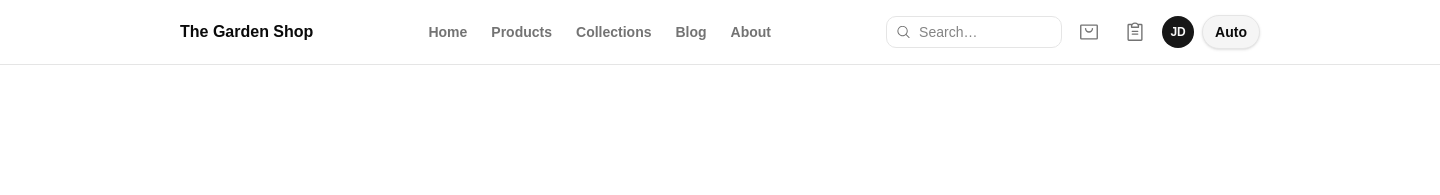
Header — authenticated state › dropdown shows user name and email
Step 1. Click the button with aria-label "user menu" → (1178, 32), box [1162, 16, 1194, 48]
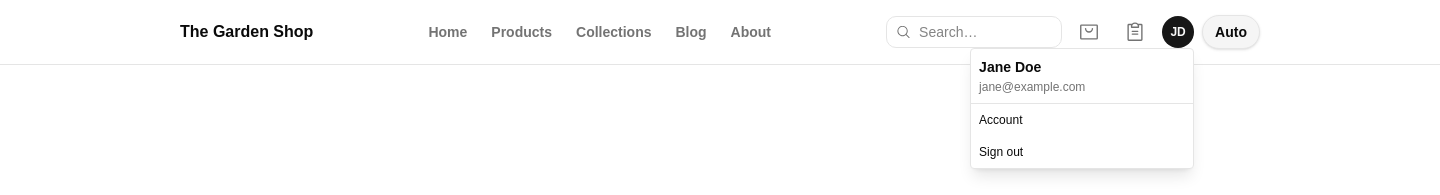
Check: the text "Jane Doe" is shown, box [979, 59, 1041, 75]
Check: the text "jane@example.com" is shown, box [979, 80, 1085, 94]
